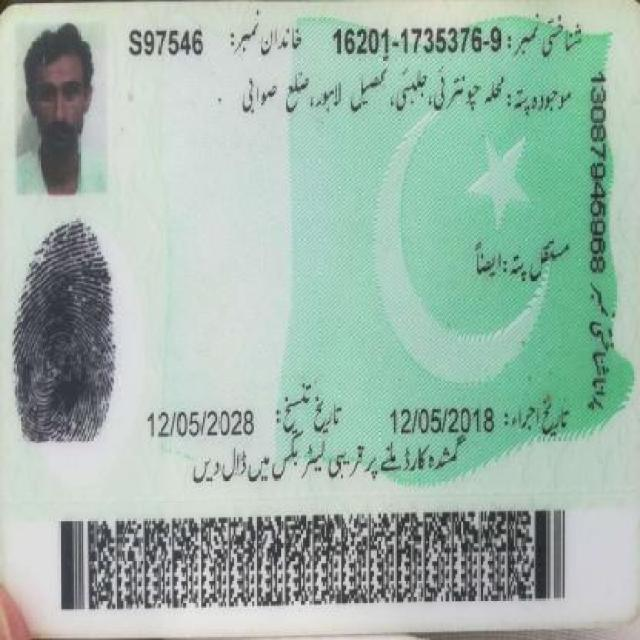Back: (3, 8, 623, 620)
